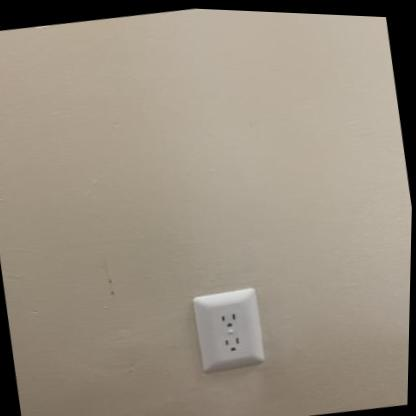OUTLET: (189, 283, 269, 375)
